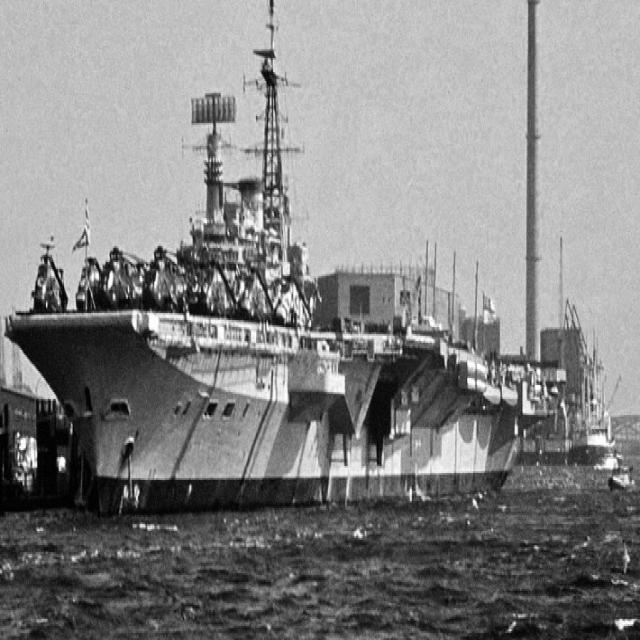Portanaves: (3, 1, 563, 516)
